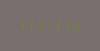seven: (44, 19, 52, 31)
six: (53, 20, 61, 31)
three: (17, 18, 25, 30), (62, 20, 70, 31)
two: (26, 19, 34, 30)
zero: (71, 20, 79, 32), (35, 19, 43, 30)
